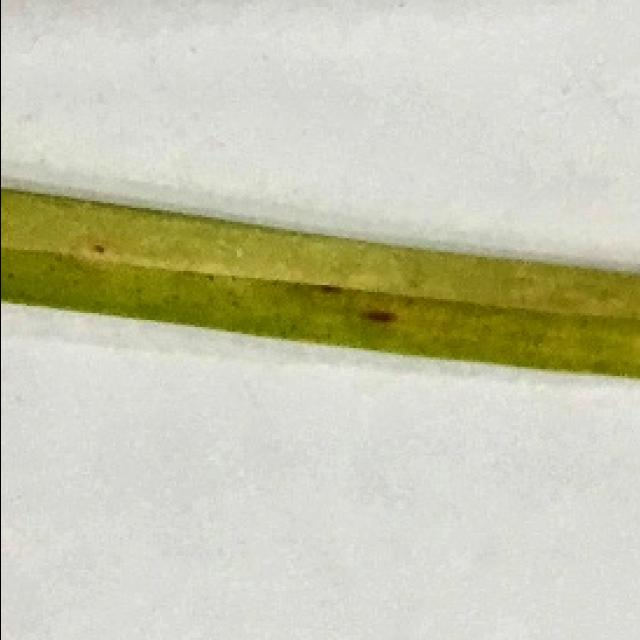Leaf_Blast: (278, 264, 430, 336)
